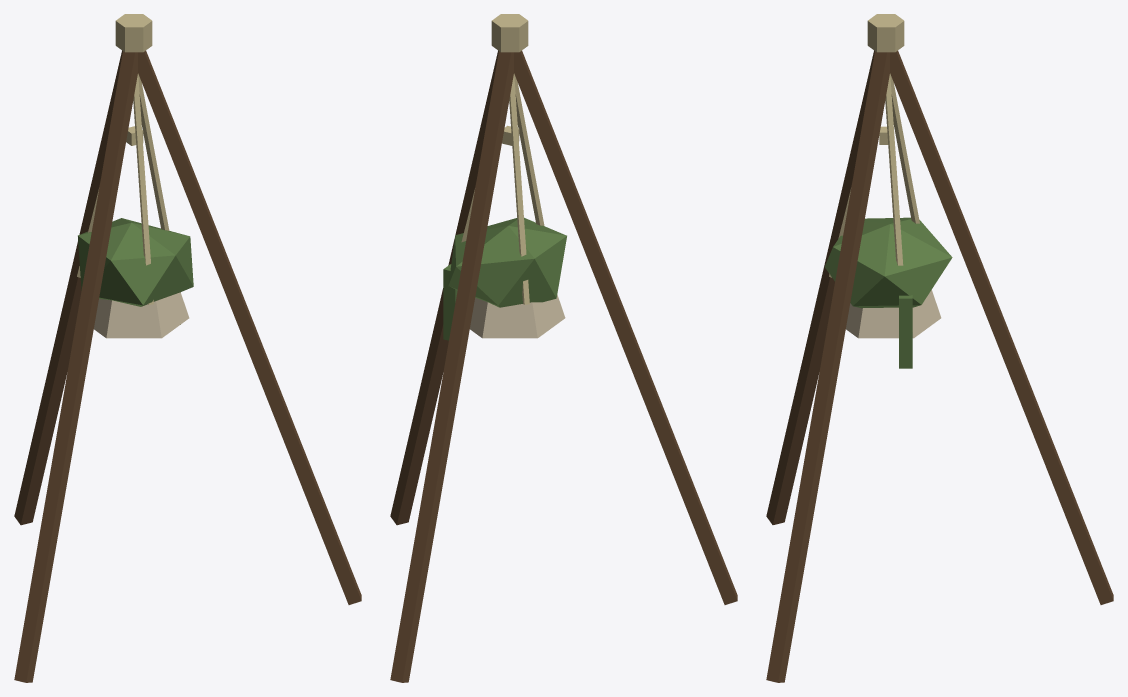
The model's file is plant-hanger-01.glb.
3 renders of one model, left to right at view 1: azimuth 30°, elevation 25°; view 2: azimuth 150°, elevation 25°; view 3: azimuth 270°, elevation 25°, orthographic.
Parts seen in each view (by area): view 1: plant_hanger_01; view 2: plant_hanger_01; view 3: plant_hanger_01.
Part boxes in pixels (x1=…): plant_hanger_01: x1=14, y1=14, x2=361, y2=682; plant_hanger_01: x1=390, y1=14, x2=737, y2=682; plant_hanger_01: x1=766, y1=14, x2=1113, y2=682.
Size of the model in its own units: 0.8732 by 1.4 by 0.7562.
